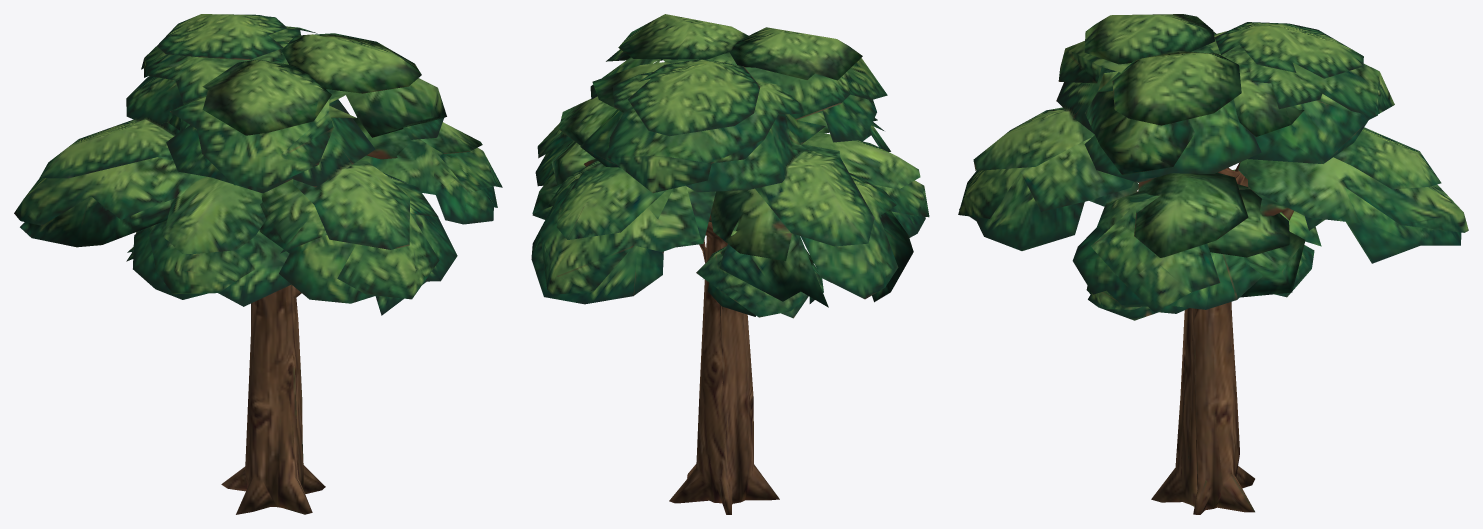
File: tree_oak2.glb
The picture shows the model from 3 angles, left to right: view 1: azimuth 30°, elevation 25°; view 2: azimuth 150°, elevation 25°; view 3: azimuth 270°, elevation 25°; orthographic projection. The views are drawn at different scales.
Bounding box in the file's own units: 6.1 × 6.5 × 6.45.
Materials: 1 (1 with a texture image).
